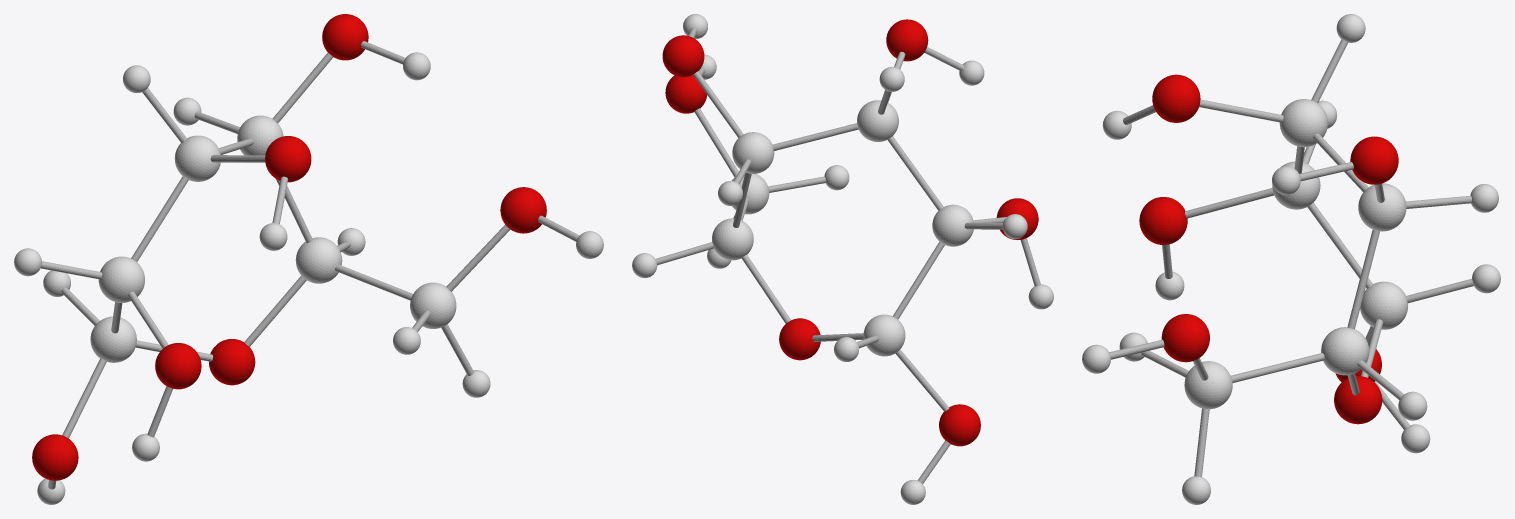
3 views of the same model, side by side, from view 1: azimuth 30°, elevation 25°; view 2: azimuth 150°, elevation 25°; view 3: azimuth 270°, elevation 25° (orthographic). The views are drawn at different scales.
Visible parts, largest first — view 1: world; view 2: world; view 3: world.
Part boxes in pixels (x1,y1,x2,y2): world: (14, 14, 603, 504); world: (632, 14, 1053, 504); world: (1082, 14, 1500, 504).
Size of the model in its own units: 5.93 by 5.3 by 4.33.
